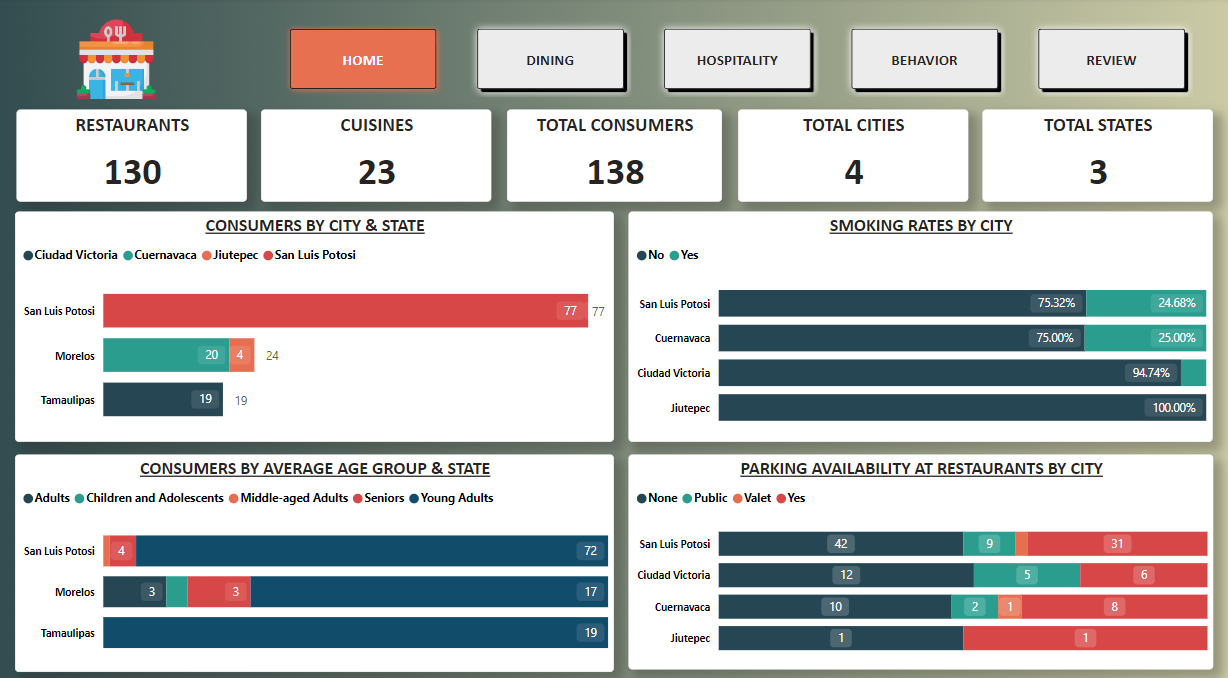

The page's visual inventory and layout, read from the dashboard file:
{"tool":"powerbi","page":{"name":"HOME","canvas":[1280,720],"ordinal":0},"visuals":[{"type":"card","title":"TOTAL CITIES","fields":{"Values":["Count(restaurants.City)"]},"box":[768.4,116.5,240,96],"z":1000},{"type":"card","title":"RESTAURANTS","fields":{"Values":["Count(restaurants.Restaurant_ID)"]},"box":[16.4,116.5,240,96],"z":2000},{"type":"card","title":"CUISINES","fields":{"Values":["Count(restaurant_cuisines.Cuisine)"]},"box":[272.4,116.5,240,96],"z":3000},{"type":"card","title":"TOTAL CONSUMERS","fields":{"Values":["Count(consumer_preferences.Consumer_ID)"]},"box":[528.4,116.5,224,96],"z":4000},{"type":"card","title":"TOTAL STATES","fields":{"Values":["Count(restaurants.State)"]},"box":[1024.4,116.5,240,96],"z":5000},{"type":"pageNavigator","box":[293.8,25,950.3,79.7],"z":6000},{"type":"barChart","title":"CONSUMERS BY CITY & STATE","fields":{"Y":["CountNonNull(consumers.Consumer_ID)"],"Category":["consumers.State"],"Series":["consumers.City"]},"box":[15.7,224.1,624.1,239.8],"z":7000},{"type":"hundredPercentStackedBarChart","title":"CONSUMERS BY AVERAGE AGE GROUP & STATE","fields":{"Category":["consumers.State"],"Y":["CountNonNull(consumers.Consumer_ID)"],"Series":["consumers.AgeGroup"]},"box":[15.7,477.1,624.1,226.5],"z":8000},{"type":"hundredPercentStackedBarChart","title":"SMOKING RATES BY CITY","fields":{"Y":["CountNonNull(consumers.Consumer_ID)"],"Category":["consumers.City"],"Series":["consumers.Smoker"]},"box":[655.4,224.1,608.4,239.8],"z":9000},{"type":"hundredPercentStackedBarChart","title":"PARKING AVAILABILITY AT RESTAURANTS BY CITY","fields":{"Category":["restaurants.City"],"Y":["CountNonNull(restaurants.Restaurant_ID)"],"Series":["restaurants.Parking"]},"box":[655.4,477.1,609.6,224.1],"z":10000},{"type":"image","box":[70.3,12.5,101.6,104.7],"z":12000}]}

Visuals, with their boxes in screenshot pixels (x1, y1, x2, y2), scaled from the page's 1280x720 canvas onto the 1228x678 screenshot:
"TOTAL CITIES" card: [x1=737, y1=110, x2=967, y2=200]
"RESTAURANTS" card: [x1=16, y1=110, x2=246, y2=200]
"CUISINES" card: [x1=261, y1=110, x2=492, y2=200]
"TOTAL CONSUMERS" card: [x1=507, y1=110, x2=722, y2=200]
"TOTAL STATES" card: [x1=983, y1=110, x2=1213, y2=200]
pageNavigator: [x1=282, y1=24, x2=1194, y2=99]
"CONSUMERS BY CITY & STATE" barChart: [x1=15, y1=211, x2=614, y2=437]
"CONSUMERS BY AVERAGE AGE GROUP & STATE" hundredPercentStackedBarChart: [x1=15, y1=449, x2=614, y2=663]
"SMOKING RATES BY CITY" hundredPercentStackedBarChart: [x1=629, y1=211, x2=1212, y2=437]
"PARKING AVAILABILITY AT RESTAURANTS BY CITY" hundredPercentStackedBarChart: [x1=629, y1=449, x2=1214, y2=660]
image: [x1=67, y1=12, x2=165, y2=110]
